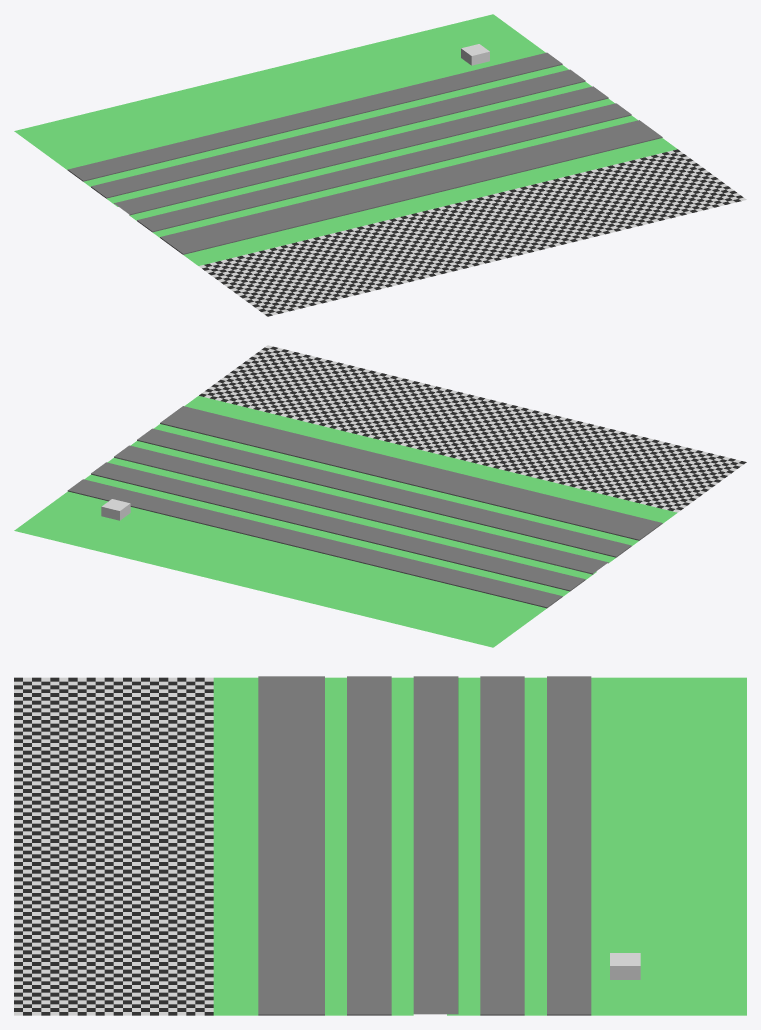
Rendered from Map4.fbx.
The picture shows the model from 3 angles, top to bottom: view 1: azimuth 30°, elevation 25°; view 2: azimuth 150°, elevation 25°; view 3: azimuth 270°, elevation 25°; orthographic projection. The views are drawn at different scales.
Visible parts, largest first — view 1: Level1.002; view 2: Level1.002; view 3: Level1.002, Cube.012.
Boxes of the visible parts, left/top/right/bottom form: Level1.002: left=14, top=14, right=746, bottom=316; Level1.002: left=14, top=345, right=746, bottom=647; Level1.002: left=14, top=676, right=746, bottom=1015; Cube.012: left=610, top=953, right=640, bottom=979.
Bounding box in the file's own units: 2400 × 92.2 × 2199.
